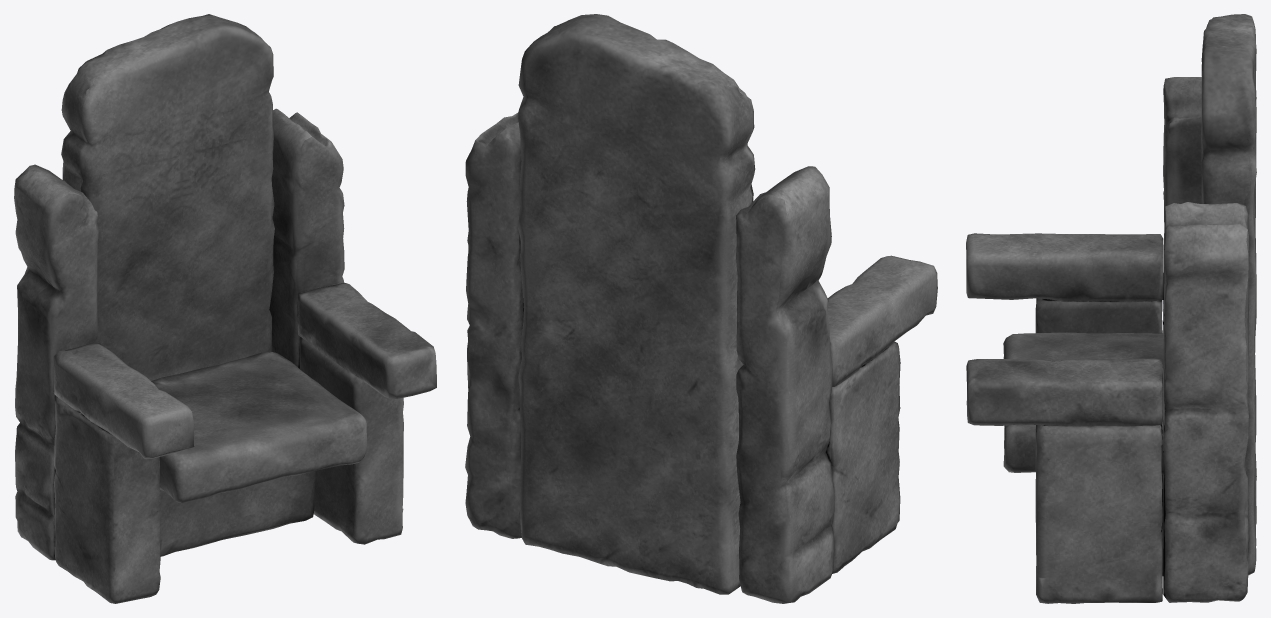
The picture shows the model from 3 angles, left to right: view 1: azimuth 30°, elevation 25°; view 2: azimuth 150°, elevation 25°; view 3: azimuth 270°, elevation 25°; orthographic projection. The views are drawn at different scales.
Parts seen in each view (by area): view 1: Trono_RT; view 2: Trono_RT; view 3: Trono_RT.
Part boxes in pixels (x1,y1,x2,y2): Trono_RT: [14, 14, 436, 603]; Trono_RT: [465, 14, 937, 603]; Trono_RT: [966, 14, 1256, 603].
Size of the model in its own units: 128 by 197 by 104.
1 material, 1 textured.
